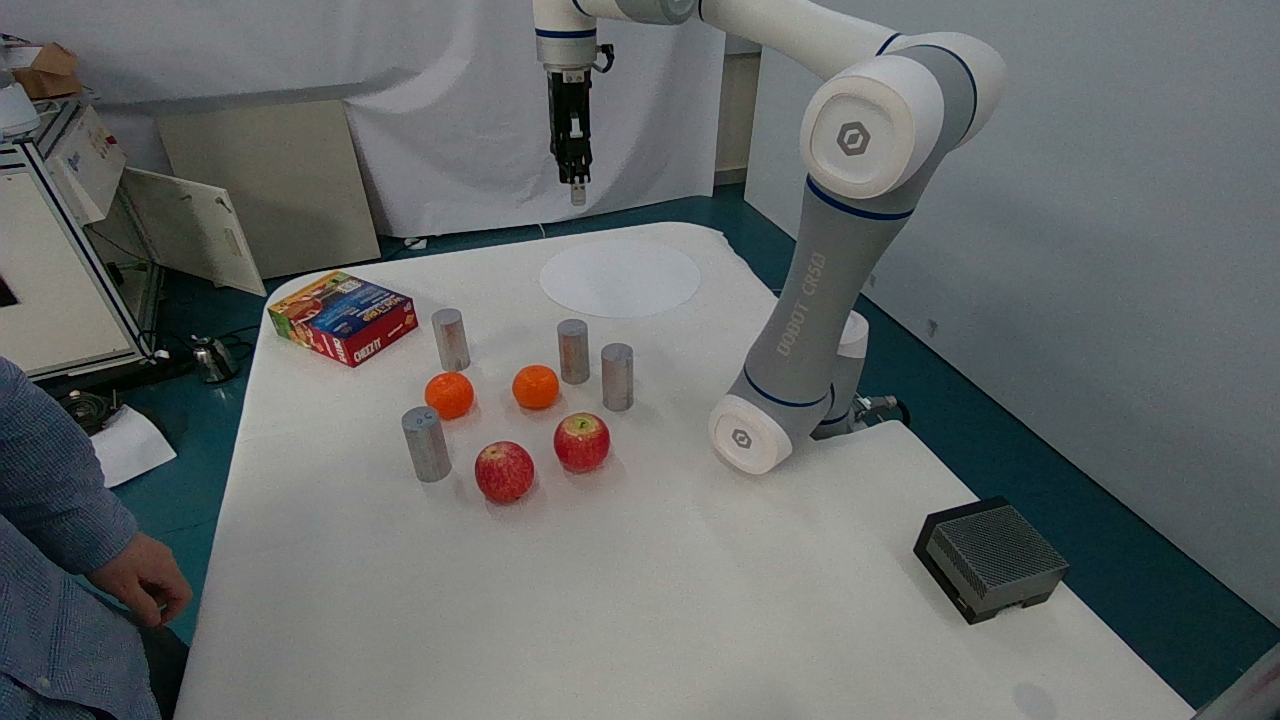apple: (466, 426, 538, 514), (549, 405, 616, 476)
metal rod: (394, 399, 465, 500), (425, 300, 475, 381), (595, 337, 641, 417), (552, 301, 592, 391)
orange: (405, 361, 482, 422), (501, 359, 572, 414)
